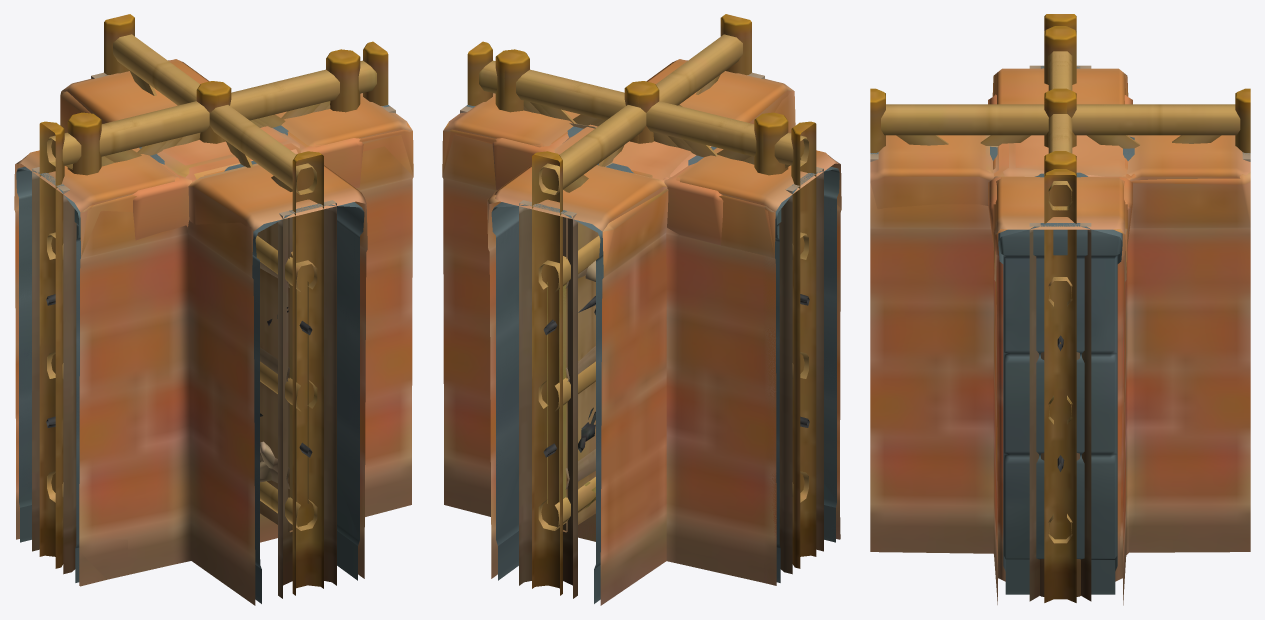
File: fences-1.glb
3 views of the same model, side by side, from view 1: azimuth 30°, elevation 25°; view 2: azimuth 150°, elevation 25°; view 3: azimuth 270°, elevation 25° (orthographic).
Visible parts, largest first — view 1: mFenceWallRenga (×6), mFenceBamboo (×6), mFenceConcreteBlock (×4), mFenceSandProtection (×3); view 2: mFenceWallRenga (×6), mFenceBamboo (×6), mFenceConcreteBlock (×5), mFenceSandProtection (×3), mFenceBarbedWire; view 3: mFenceWallRenga (×6), mFenceBamboo (×6), mFenceConcreteBlock, mFenceSandProtection.
Boxes of the visible parts, x1,y1,x2,y2 form: mFenceWallRenga (×6): (14, 59, 413, 605); mFenceBamboo (×6): (39, 14, 388, 595); mFenceConcreteBlock (×4): (16, 105, 389, 603); mFenceSandProtection (×3): (32, 167, 336, 598); mFenceWallRenga (×6): (442, 59, 841, 605); mFenceBamboo (×6): (467, 14, 816, 595); mFenceConcreteBlock (×5): (466, 105, 839, 603); mFenceSandProtection (×3): (519, 73, 823, 598); mFenceBarbedWire: (543, 296, 809, 457); mFenceWallRenga (×6): (870, 68, 1250, 605); mFenceBamboo (×6): (870, 14, 1250, 602); mFenceConcreteBlock: (999, 229, 1121, 594); mFenceSandProtection: (1029, 223, 1091, 601).
Bounding box in the file's own units: 10 × 12.55 × 10.
30 materials, 30 textured.
